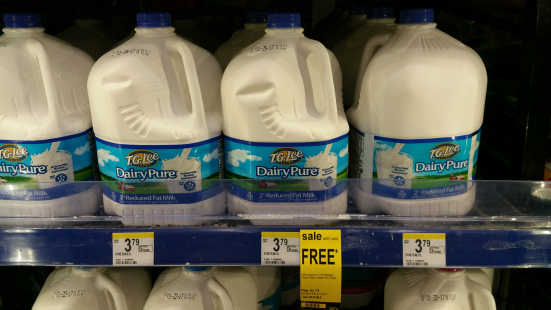milk: (94, 20, 222, 215), (356, 20, 482, 213), (228, 21, 352, 214), (1, 18, 90, 216)
